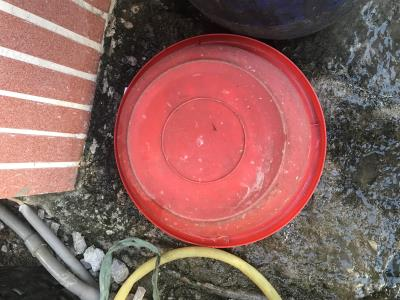bowl: (105, 30, 334, 251)
